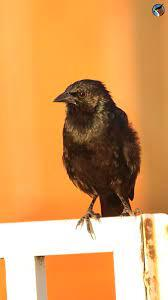grauna: (52, 78, 148, 237)
